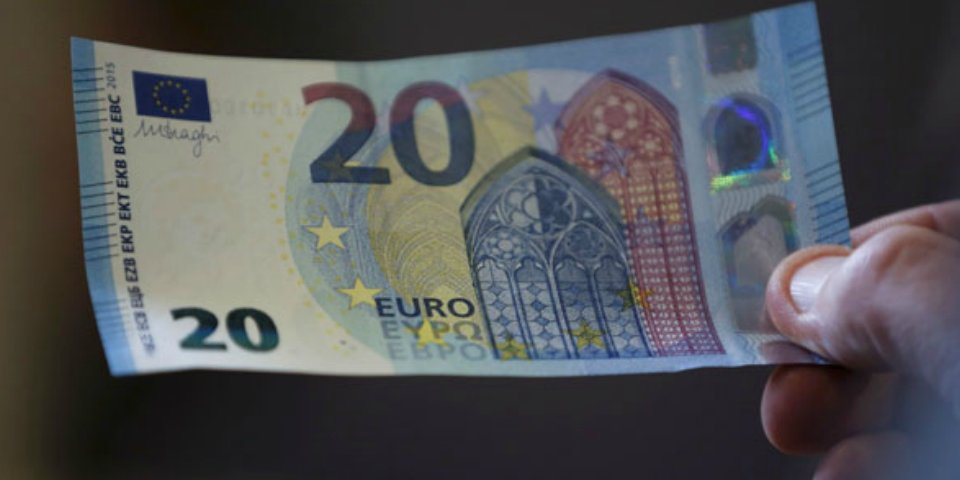billete: (65, 1, 864, 383)
